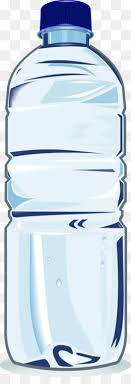available: (1, 1, 129, 372)
